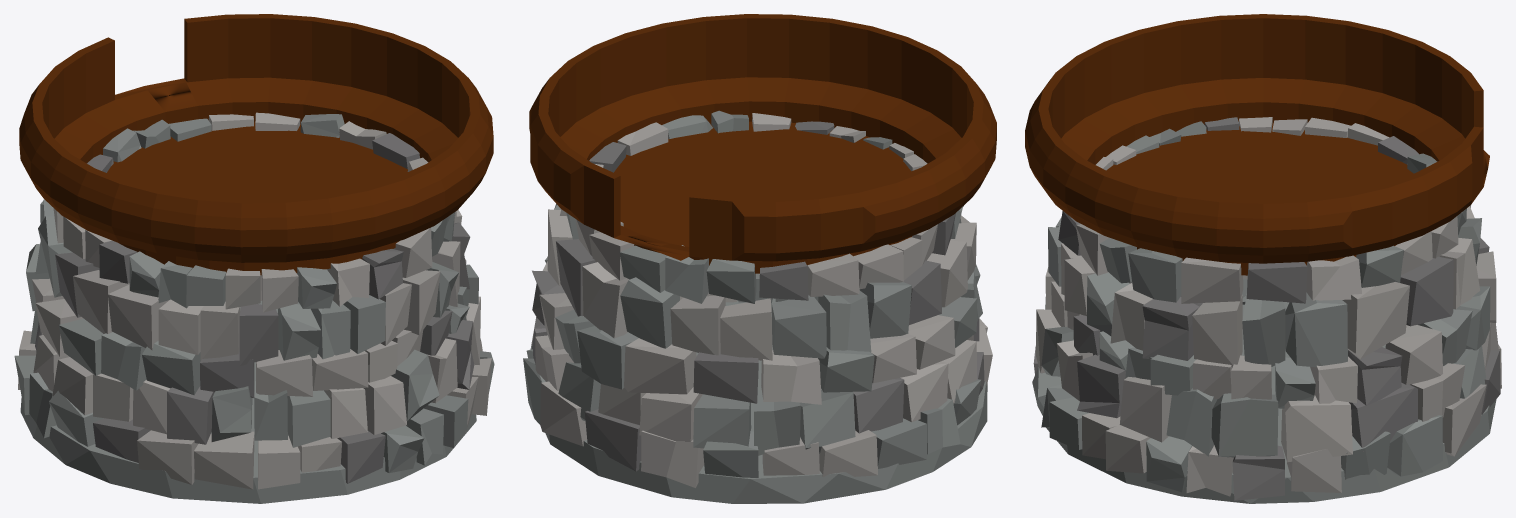
File: WindmillFoundation.fbx
3 renders of one model, left to right at view 1: azimuth 30°, elevation 25°; view 2: azimuth 150°, elevation 25°; view 3: azimuth 270°, elevation 25°, orthographic.
Visible parts, largest first — view 1: Windmill.002; view 2: Windmill.002; view 3: Windmill.002.
Boxes of the visible parts, x1,y1,x2,y2 form: Windmill.002: [14, 14, 494, 503]; Windmill.002: [523, 14, 996, 503]; Windmill.002: [1025, 14, 1501, 503].
Size of the model in its own units: 10.28 by 7.12 by 10.26.
